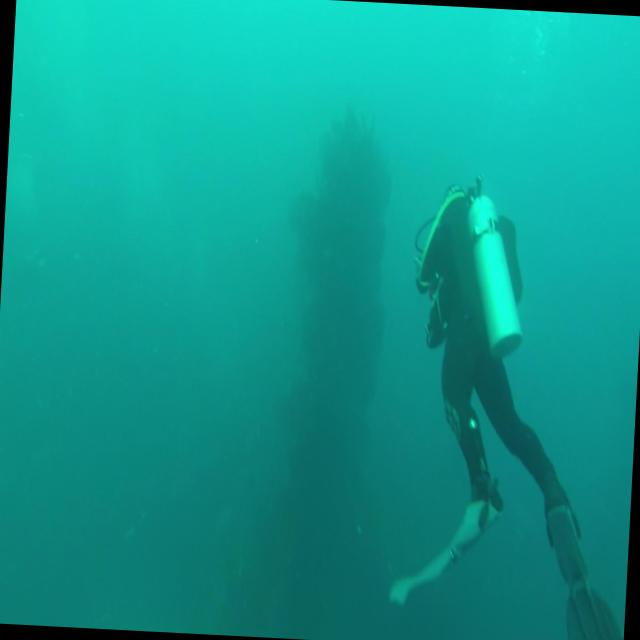human: (385, 169, 640, 640)
